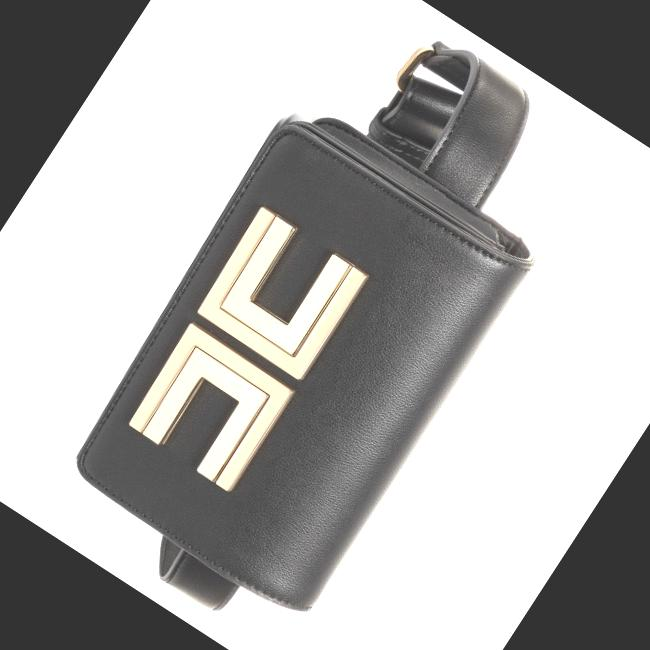ELISABETTA-FRANCHI: (101, 183, 395, 514)
